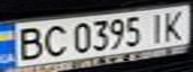0: (69, 19, 93, 54)
3: (90, 17, 112, 52)
5: (124, 14, 148, 47)
9: (106, 16, 130, 50)
B: (9, 25, 48, 62)
C: (36, 23, 69, 57)
I: (145, 10, 172, 44)
K: (157, 7, 190, 42)
